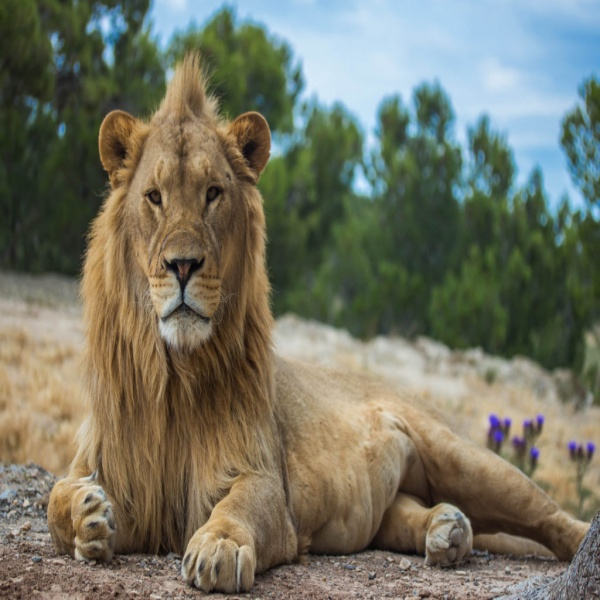Lion: (45, 52, 594, 594)
